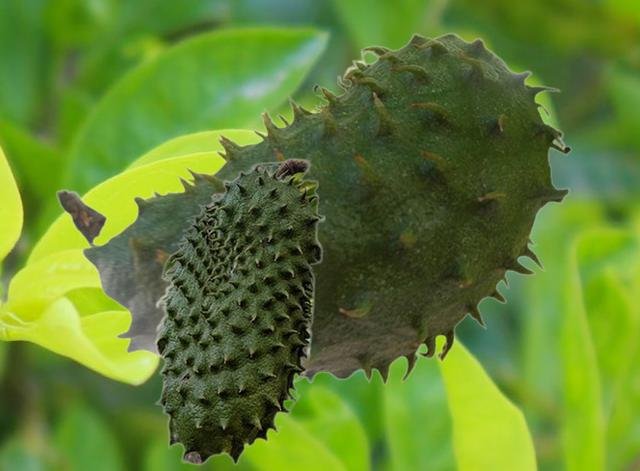guyabano: (55, 32, 571, 386), (153, 157, 324, 465)
